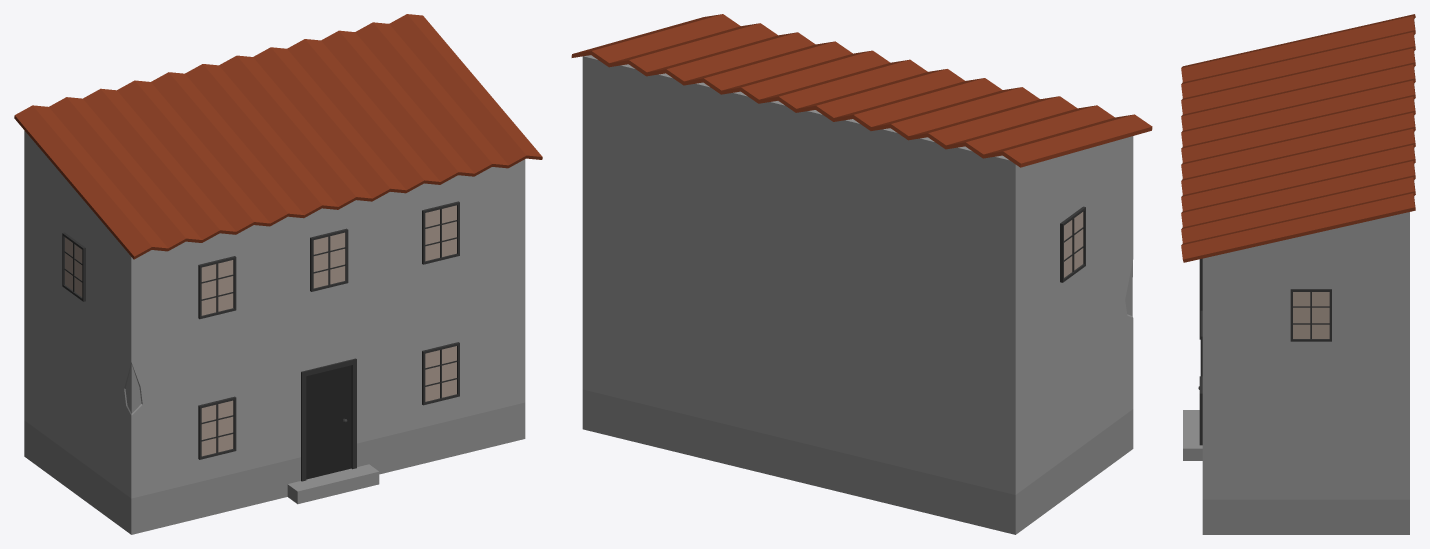
The model's file is Building_06.fbx.
The picture shows the model from 3 angles, left to right: view 1: azimuth 30°, elevation 25°; view 2: azimuth 150°, elevation 25°; view 3: azimuth 270°, elevation 25°; orthographic projection. The views are drawn at different scales.
Parts seen in each view (by area): view 1: Building_06; view 2: Building_06; view 3: Building_06.
Part boxes in pixels (x1=…): Building_06: x1=14, y1=14, x2=542, y2=534; Building_06: x1=571, y1=14, x2=1152, y2=534; Building_06: x1=1181, y1=14, x2=1415, y2=534.
Bounding box in the file's own units: 882 × 717 × 452.
